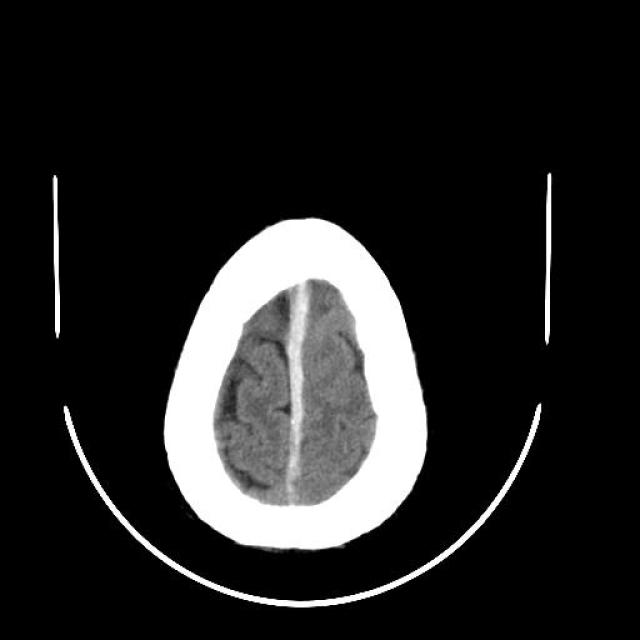Subdural: (248, 272, 336, 524)
